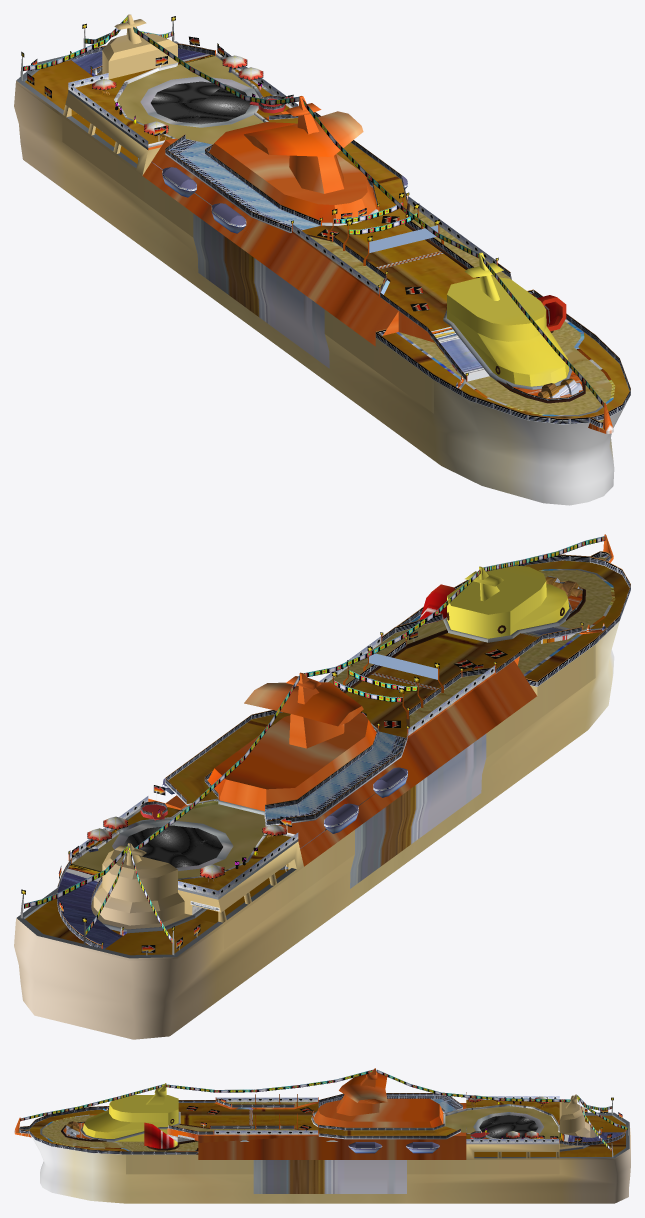
The picture shows the model from 3 angles, top to bottom: view 1: azimuth 30°, elevation 25°; view 2: azimuth 150°, elevation 25°; view 3: azimuth 270°, elevation 25°; orthographic projection. The views are drawn at different scales.
Parts seen in each view (by area): view 1: polygon4.028, polygon3.029, polygon1.032, polygon7.026, polygon8.026, polygon5.023, polygon9.025; view 2: polygon4.028, polygon3.029, polygon1.032, polygon7.026, polygon8.026, polygon5.023, polygon9.025; view 3: polygon4.028, polygon3.029, polygon1.032, polygon7.026, polygon8.026, polygon5.023, polygon9.025.
Part boxes in pixels (box(x1,y1,x2,y2)): polygon4.028: box(14, 14, 627, 505); polygon3.029: box(23, 16, 630, 427); polygon1.032: box(25, 60, 629, 418); polygon7.026: box(71, 48, 582, 398); polygon8.026: box(117, 56, 611, 430); polygon5.023: box(16, 21, 615, 416); polygon9.025: box(151, 81, 250, 124); polygon4.028: box(14, 534, 619, 1039); polygon3.029: box(24, 536, 630, 952); polygon1.032: box(25, 560, 629, 955); polygon7.026: box(57, 576, 582, 948); polygon8.026: box(71, 556, 613, 878); polygon5.023: box(17, 569, 615, 958); polygon9.025: box(123, 825, 222, 867); polygon4.028: box(14, 1068, 630, 1203); polygon3.029: box(19, 1069, 627, 1154); polygon1.032: box(29, 1100, 625, 1156); polygon7.026: box(66, 1121, 623, 1193); polygon8.026: box(16, 1102, 559, 1151); polygon5.023: box(40, 1094, 629, 1158); polygon9.025: box(479, 1115, 537, 1138).
Size of the model in its own units: 17470 by 18192 by 89227.
17 materials, 17 textured.
